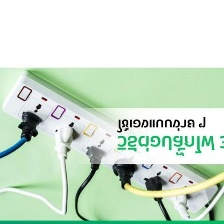three_eye_plug: (0, 68, 220, 214)
